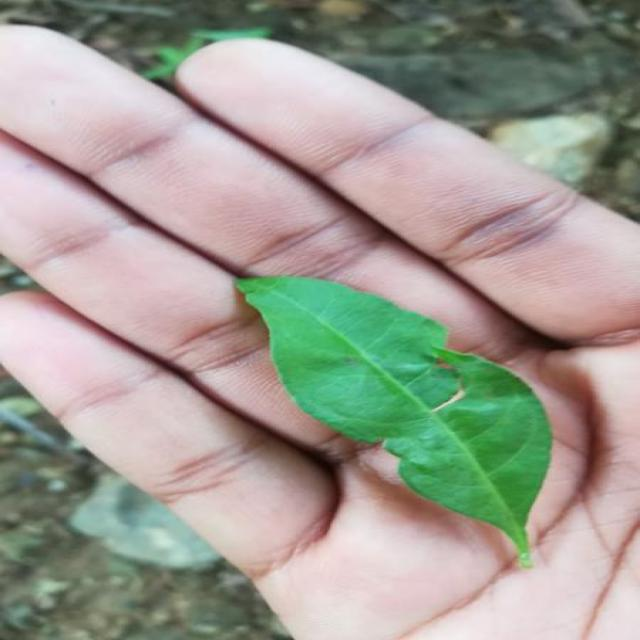henna: (237, 278, 552, 563)
